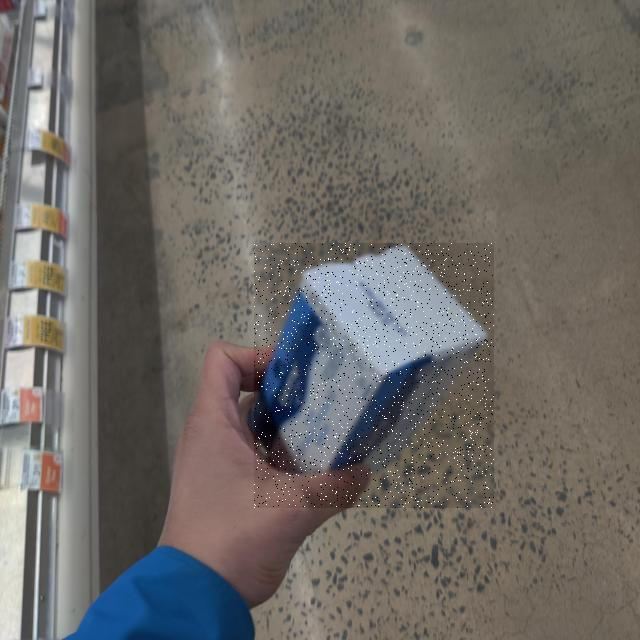Butter: (254, 243, 494, 508)
